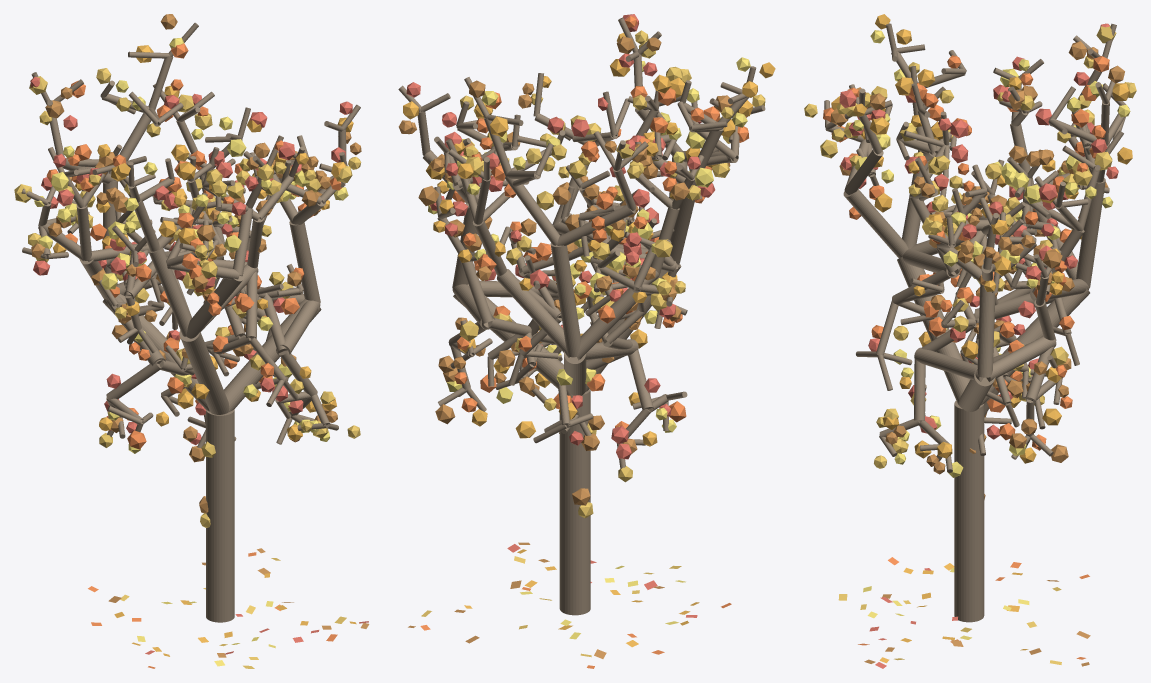
3 renders of one model, left to right at view 1: azimuth 30°, elevation 25°; view 2: azimuth 150°, elevation 25°; view 3: azimuth 270°, elevation 25°, orthographic. The views are drawn at different scales.
Parts seen in each view (by area): view 1: AutumnBranch_D0, AutumnBranch_D1.002, AutumnBranch_D1, AutumnBranch_D2.009, AutumnBranch_D2, AutumnBranch_D2.010, AutumnBranch_D2.002, AutumnBranch_D1.001, AutumnBranch_D3.025, AutumnBranch_D3.016, AutumnBranch_D3.020, AutumnBranch_D3.014 (+5 smaller); view 2: AutumnBranch_D0, AutumnBranch_D2.004, AutumnBranch_D2.003, AutumnBranch_D2.005, AutumnBranch_D3.010, AutumnBranch_D1, AutumnBranch_D2.009, AutumnBranch_D3.011, AutumnBranch_D3.004, AutumnBranch_D1.001, AutumnBranch_D3.016, AutumnBranch_D3.008 (+3 smaller); view 3: AutumnBranch_D0, AutumnBranch_D2.004, AutumnBranch_D2, AutumnBranch_D1.002, AutumnBranch_D2.010, AutumnBranch_D1.001, AutumnBranch_D2.001, AutumnBranch_D2.002, AutumnBranch_D1, AutumnBranch_D2.009, AutumnBranch_D3.006, AutumnBranch_D2.007 (+3 smaller).
Boxes of the visible parts, bbox=[...] form: AutumnBranch_D0: bbox=[206, 409, 234, 622]; AutumnBranch_D1.002: bbox=[179, 330, 229, 414]; AutumnBranch_D1: bbox=[224, 299, 321, 411]; AutumnBranch_D2.009: bbox=[148, 247, 191, 336]; AutumnBranch_D2: bbox=[289, 221, 320, 302]; AutumnBranch_D2.010: bbox=[186, 274, 243, 338]; AutumnBranch_D2.002: bbox=[276, 300, 320, 355]; AutumnBranch_D1.001: bbox=[102, 294, 209, 411]; AutumnBranch_D3.025: bbox=[233, 208, 253, 276]; AutumnBranch_D3.016: bbox=[106, 363, 160, 400]; AutumnBranch_D3.020: bbox=[246, 271, 257, 338]; AutumnBranch_D3.014: bbox=[76, 205, 91, 260]; AutumnBranch_D0: bbox=[559, 388, 590, 615]; AutumnBranch_D2.004: bbox=[550, 243, 580, 357]; AutumnBranch_D2.003: bbox=[497, 269, 569, 357]; AutumnBranch_D2.005: bbox=[577, 277, 658, 358]; AutumnBranch_D3.010: bbox=[505, 176, 560, 245]; AutumnBranch_D1: bbox=[453, 284, 563, 388]; AutumnBranch_D2.009: bbox=[670, 186, 698, 264]; AutumnBranch_D3.011: bbox=[557, 204, 635, 245]; AutumnBranch_D3.004: bbox=[461, 261, 492, 323]; AutumnBranch_D1.001: bbox=[564, 351, 586, 395]; AutumnBranch_D3.016: bbox=[628, 350, 653, 409]; AutumnBranch_D3.008: bbox=[472, 221, 506, 275]; AutumnBranch_D0: bbox=[954, 400, 984, 622]; AutumnBranch_D2.004: bbox=[1076, 178, 1105, 287]; AutumnBranch_D2: bbox=[977, 283, 995, 377]; AutumnBranch_D1.002: bbox=[897, 257, 970, 404]; AutumnBranch_D2.010: bbox=[843, 189, 908, 258]; AutumnBranch_D1.001: bbox=[980, 288, 1089, 405]; AutumnBranch_D2.001: bbox=[986, 336, 1056, 381]; AutumnBranch_D2.002: bbox=[914, 347, 983, 381]; AutumnBranch_D1: bbox=[959, 368, 995, 411]; AutumnBranch_D2.009: bbox=[902, 159, 931, 248]; AutumnBranch_D3.006: bbox=[914, 359, 925, 420]; AutumnBranch_D2.007: bbox=[902, 249, 960, 277].
Size of the model in its own units: 8.43 by 14.53 by 7.8.
